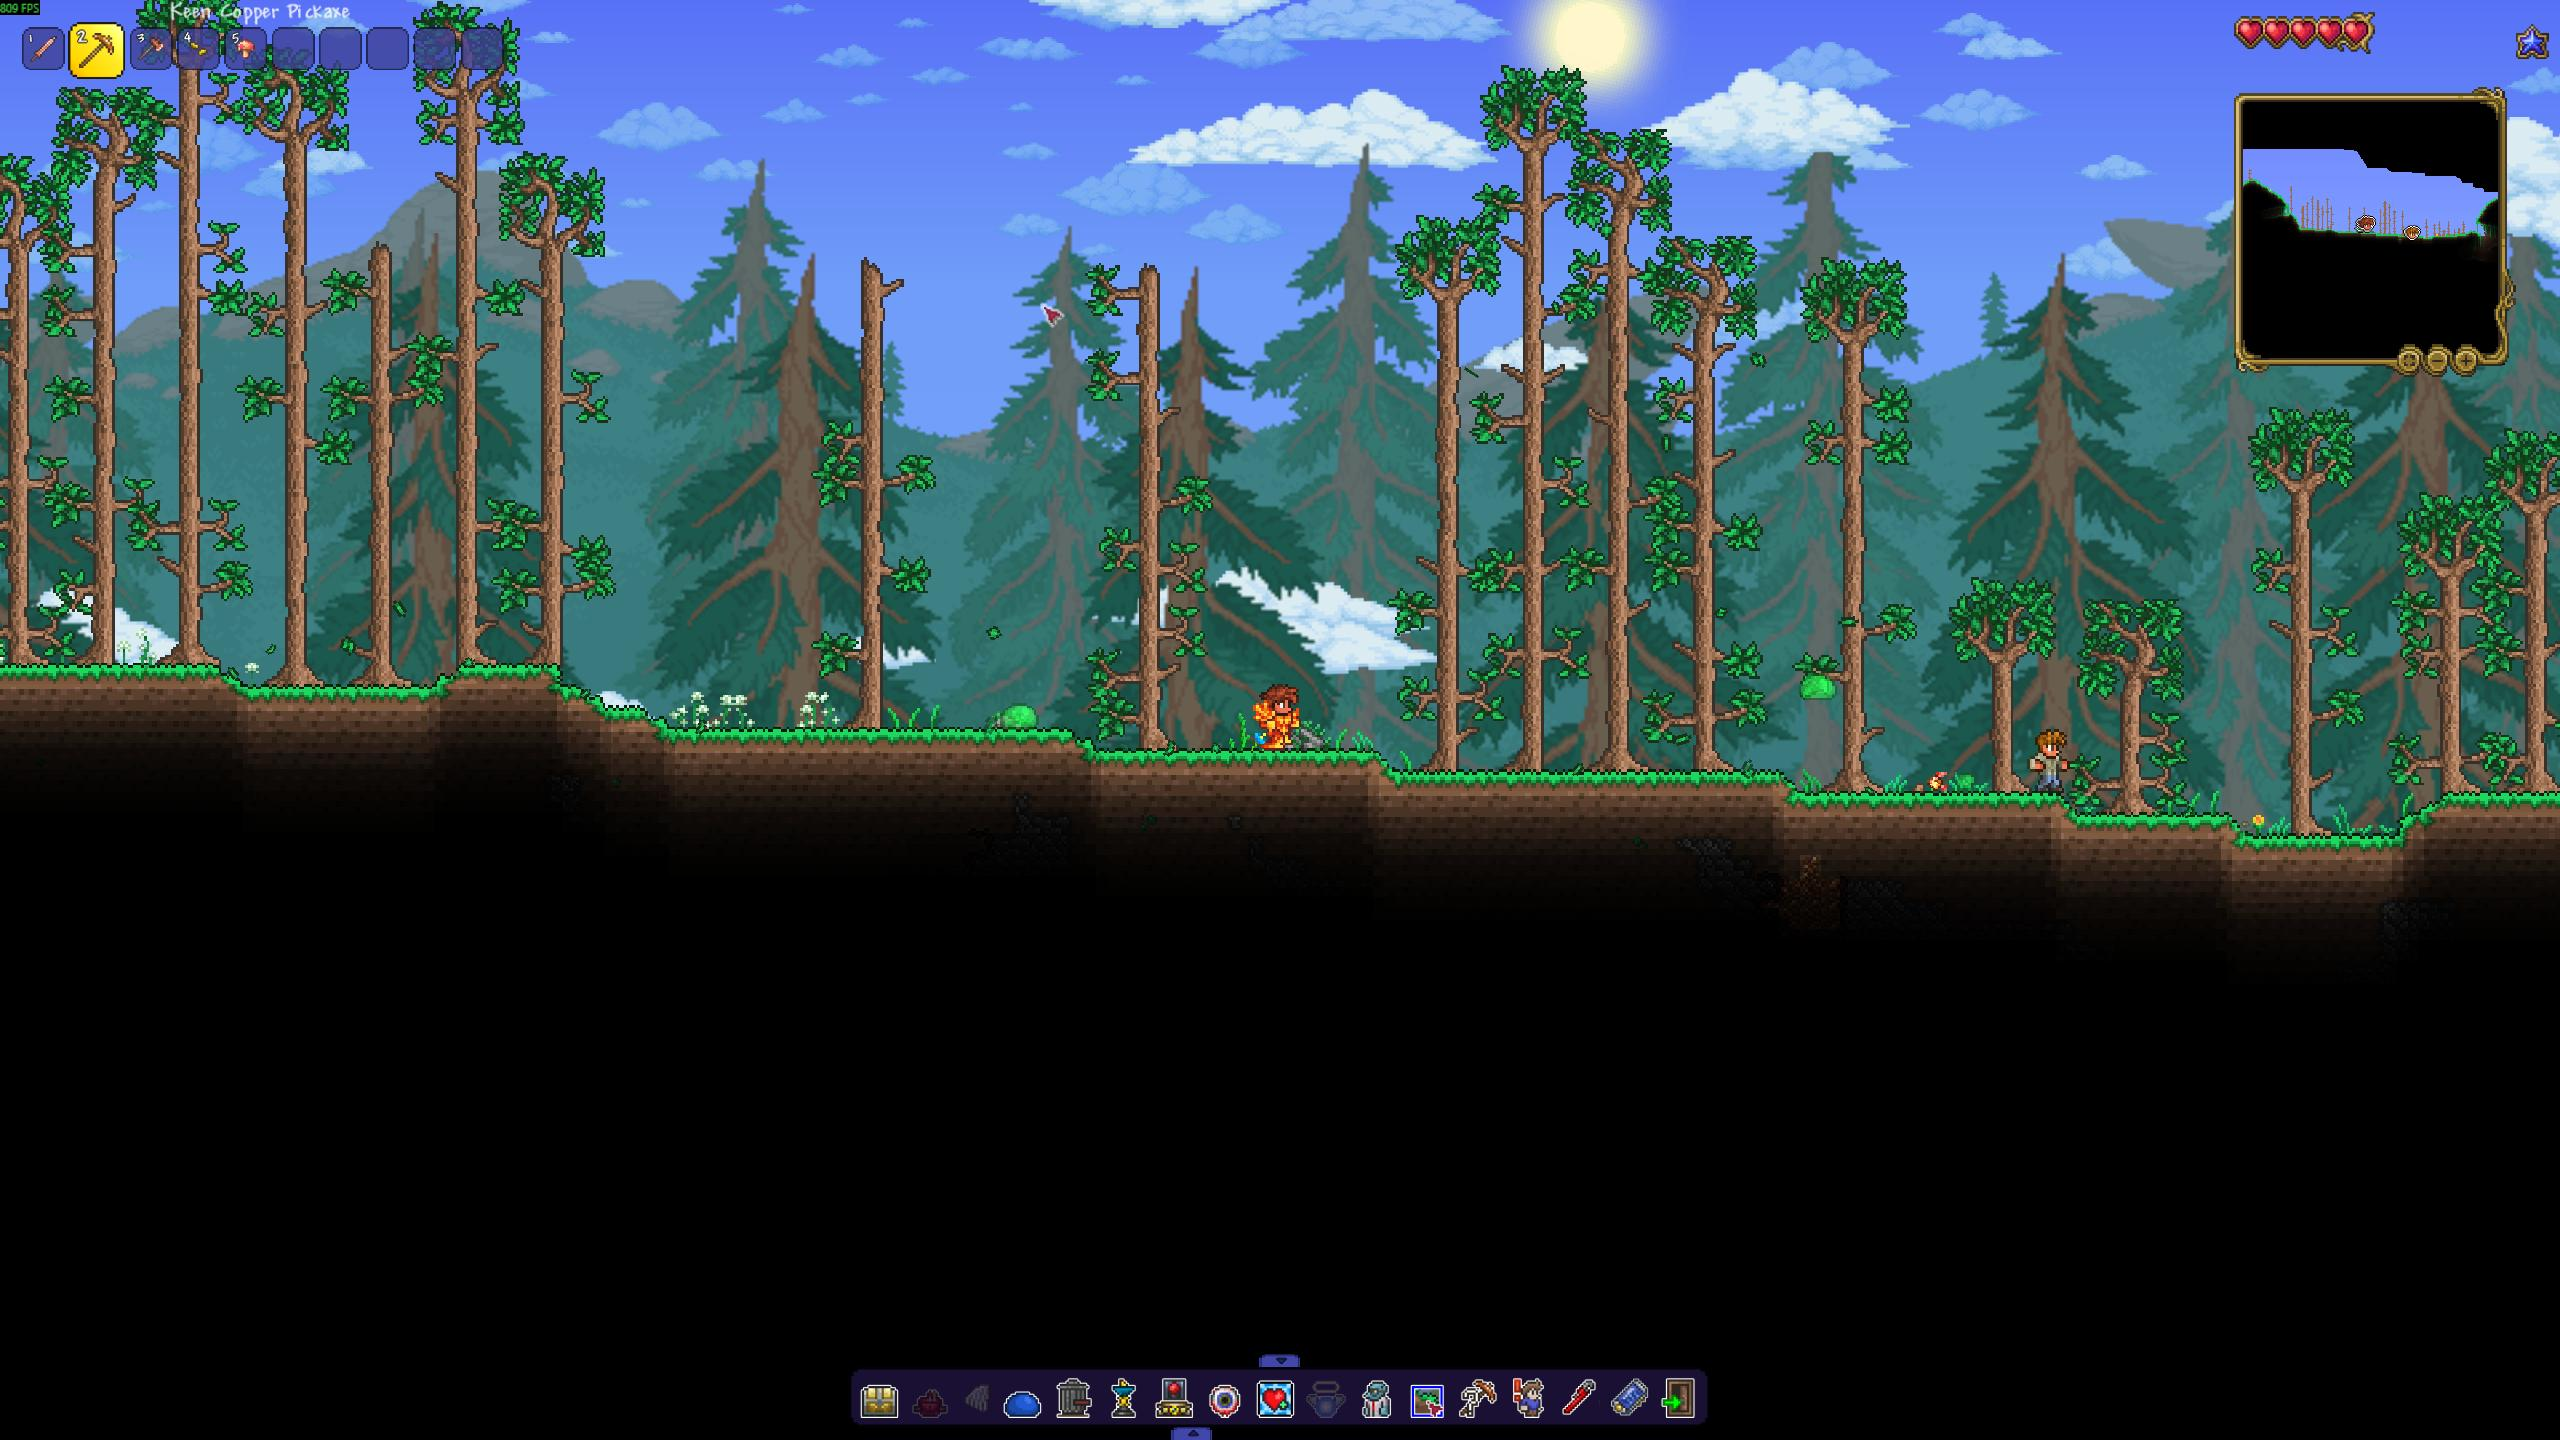Green Slime: (999, 696, 1043, 730), (1799, 670, 1841, 703)
